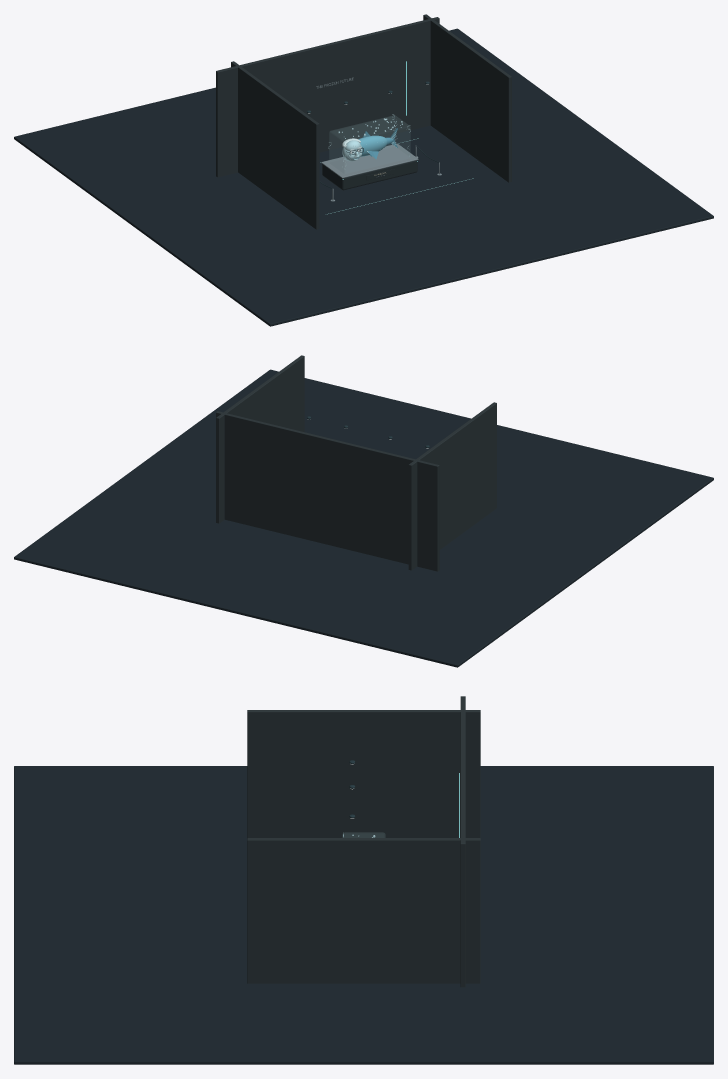
The model's file is frozen-future.glb.
3 renders of one model, top to bottom at view 1: azimuth 30°, elevation 25°; view 2: azimuth 150°, elevation 25°; view 3: azimuth 270°, elevation 25°, orthographic. The views are drawn at different scales.
Parts seen in each view (by area): view 1: Gallery_Floor, Gallery_BackWall, Gallery_RightWall, Gallery_LeftWall, Ice_Case, Pedestal_Top, Pedestal_Base; view 2: Gallery_Floor, Gallery_BackWall, Gallery_LeftWall, Gallery_RightWall; view 3: Gallery_Floor, Gallery_RightWall, Gallery_LeftWall, Gallery_BackWall.
Boxes of the visible parts, x1,y1,x2,y2 form: Gallery_Floor: (14, 28, 713, 326); Gallery_BackWall: (216, 17, 439, 177); Gallery_RightWall: (423, 14, 511, 182); Gallery_LeftWall: (231, 61, 319, 229); Ice_Case: (330, 116, 409, 161); Pedestal_Top: (321, 143, 418, 178); Pedestal_Base: (322, 160, 417, 190); Gallery_Floor: (14, 369, 713, 667); Gallery_BackWall: (216, 411, 439, 571); Gallery_LeftWall: (408, 402, 496, 570); Gallery_RightWall: (216, 355, 304, 523); Gallery_Floor: (14, 766, 713, 1064); Gallery_RightWall: (247, 838, 480, 983); Gallery_LeftWall: (247, 710, 480, 837); Gallery_BackWall: (460, 696, 465, 987).
Bounding box in the file's own units: 60 × 14 × 60.
